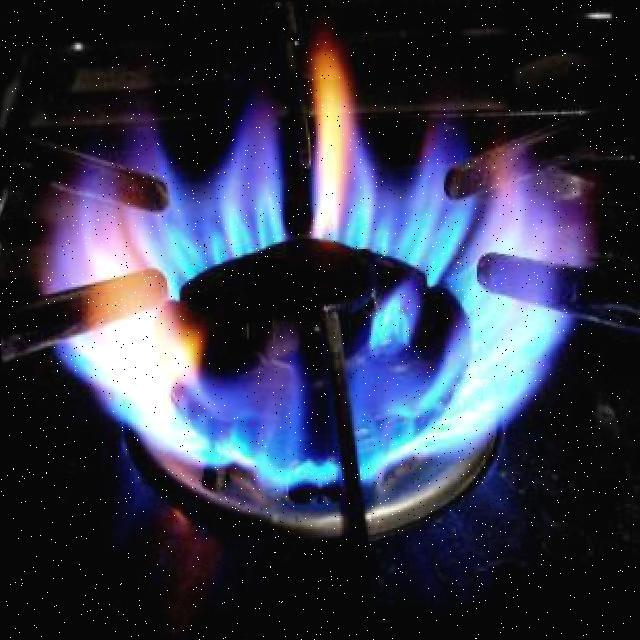Fire: (22, 26, 621, 530)
